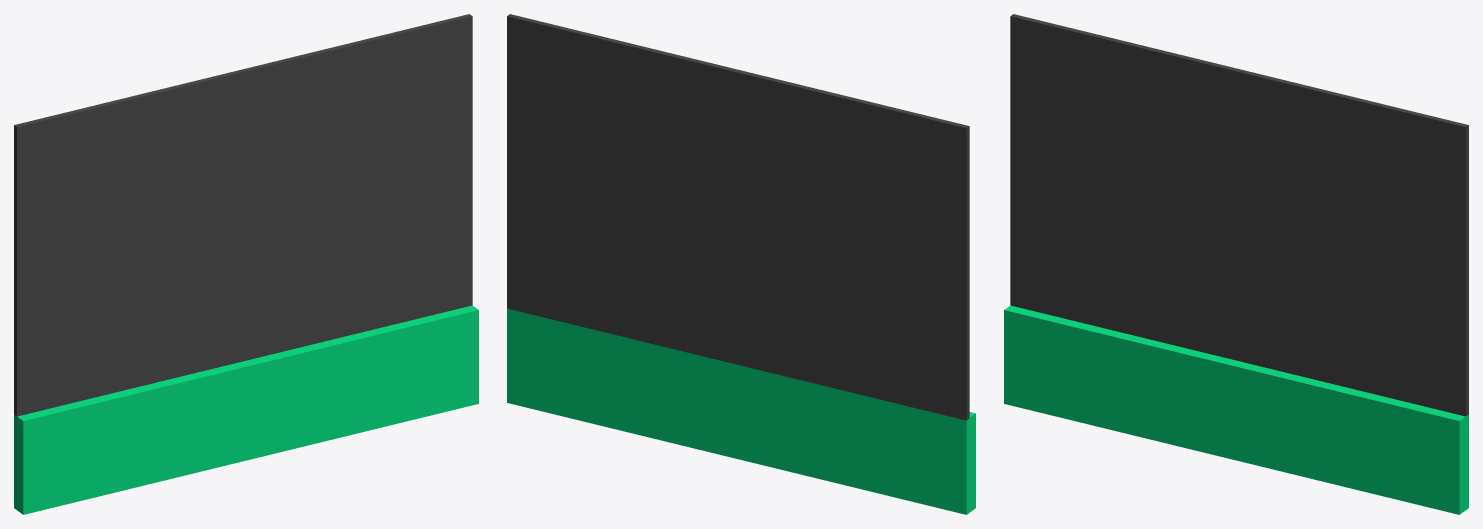
Rendered from Wall1.fbx.
The picture shows the model from 3 angles, left to right: view 1: azimuth 30°, elevation 25°; view 2: azimuth 150°, elevation 25°; view 3: azimuth 330°, elevation 25°; orthographic projection.
Visible parts, largest first — view 1: pasted__pCube1; view 2: pasted__pCube1; view 3: pasted__pCube1.
Boxes of the visible parts, x1,y1,x2,y2 form: pasted__pCube1: (14, 14, 478, 514); pasted__pCube1: (507, 14, 975, 514); pasted__pCube1: (1004, 14, 1468, 514).
Size of the model in its own units: 23.12 by 18.58 by 0.8177.
